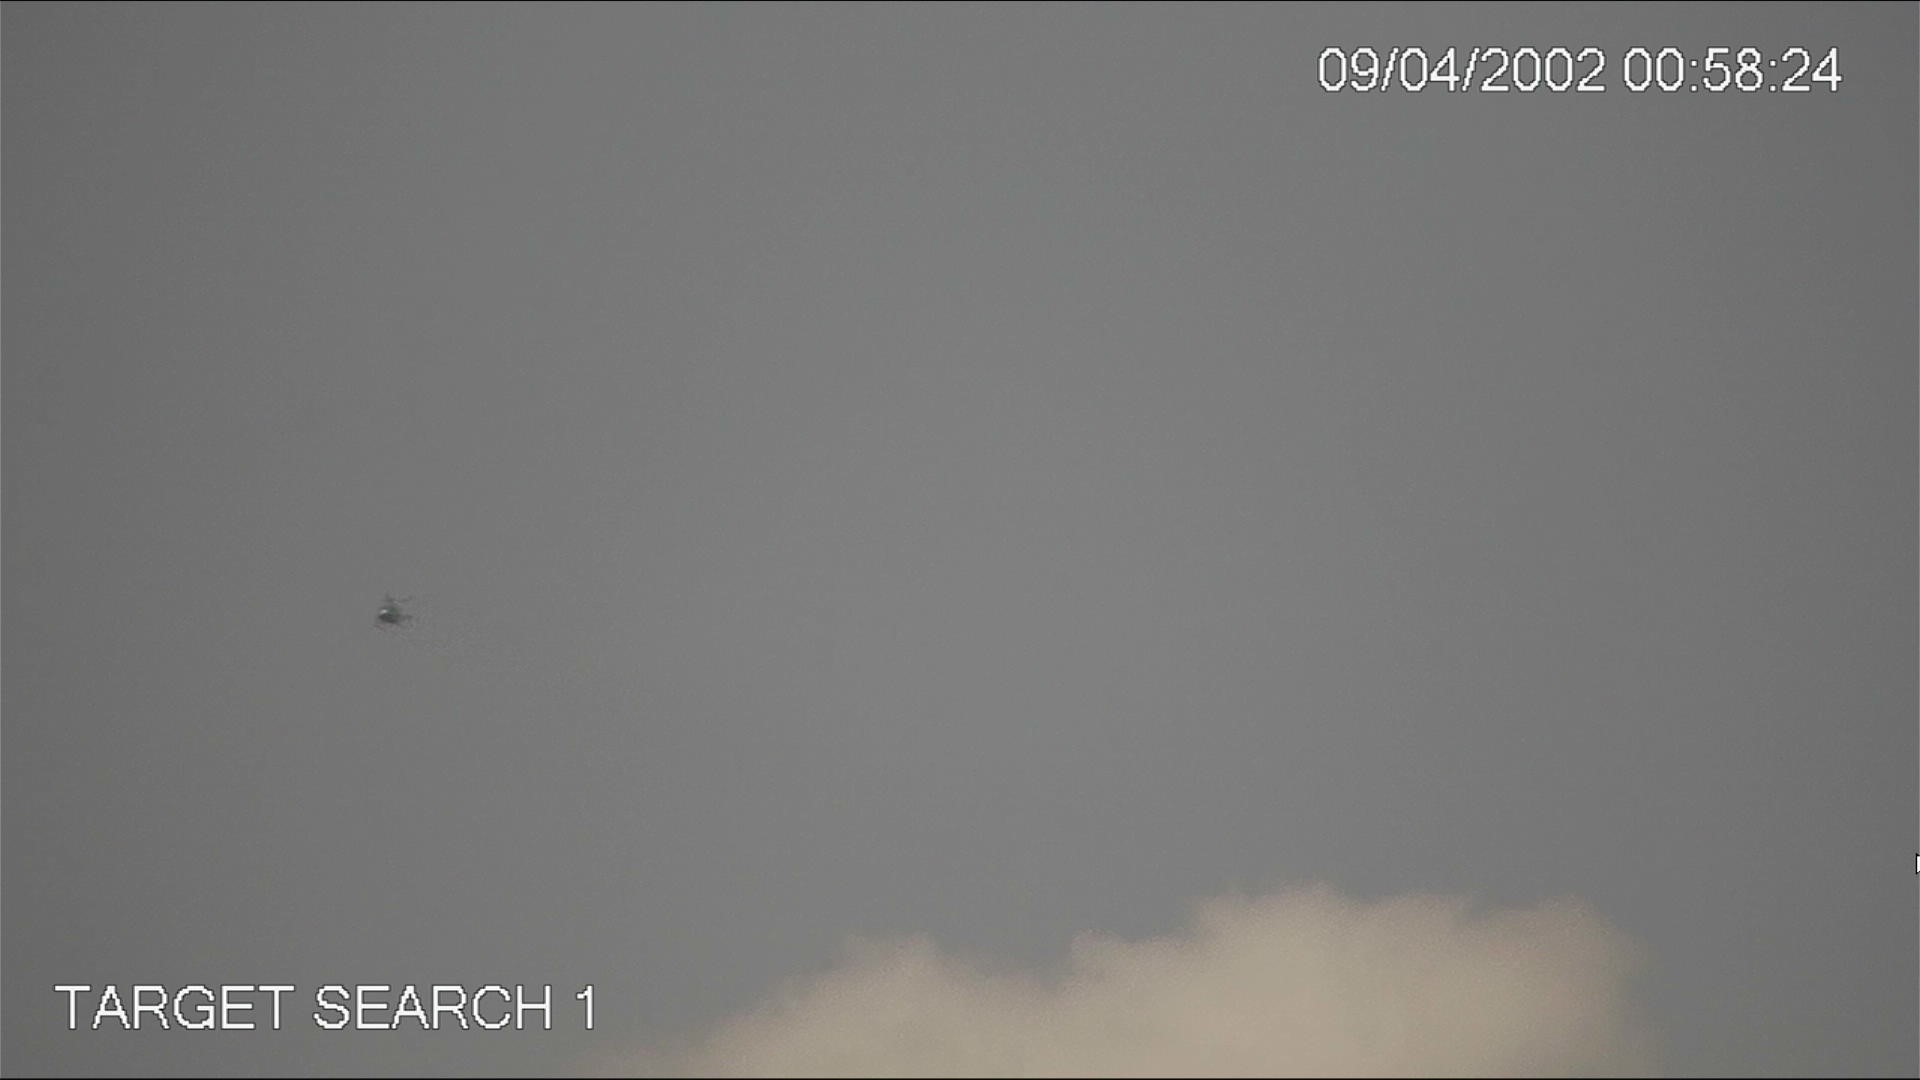SU_30: (369, 596, 413, 626)
